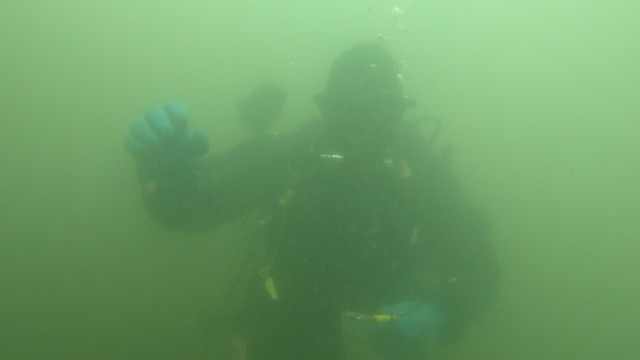Diver: (116, 36, 502, 357)
Hand: (116, 94, 221, 192), (362, 291, 451, 356)
Head: (306, 37, 423, 166)
